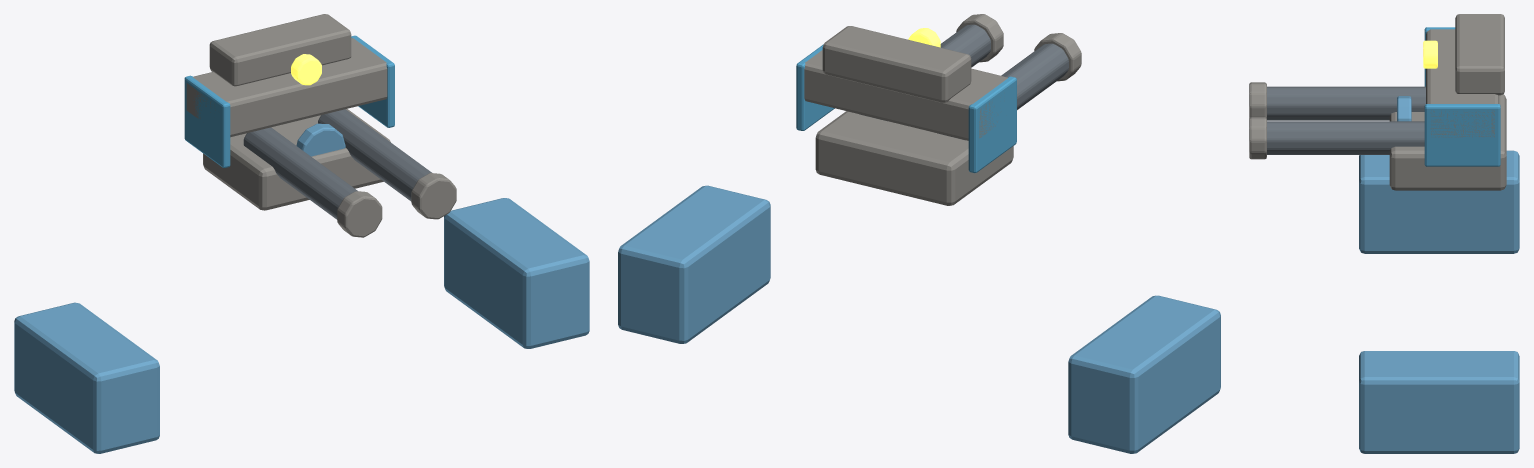
File: hq_hero_rapid.glb
3 views of the same model, side by side, from view 1: azimuth 30°, elevation 25°; view 2: azimuth 150°, elevation 25°; view 3: azimuth 270°, elevation 25° (orthographic). The views are drawn at different scales.
Visible parts, largest first — view 1: GEO_Rapid_Shoulder_L, GEO_Rapid_Shoulder_R, GEO_Rapid_Visor_Lower, GEO_Rapid_Visor_Upper, GEO_Rapid_Mount, GEO_Rapid_Barrel_L, GEO_Rapid_Barrel_R, GEO_Rapid_Fin_L, GEO_Rapid_Muzzle_R, GEO_Rapid_Muzzle_L, GEO_Rapid_BarrelBand, GEO_Rapid_Fin_R (+1 smaller); view 2: GEO_Rapid_Shoulder_L, GEO_Rapid_Shoulder_R, GEO_Rapid_Mount, GEO_Rapid_Visor_Upper, GEO_Rapid_Visor_Lower, GEO_Rapid_Fin_L, GEO_Rapid_Barrel_L, GEO_Rapid_Barrel_R, GEO_Rapid_Fin_R, GEO_Rapid_Muzzle_L, GEO_Rapid_Muzzle_R; view 3: GEO_Rapid_Shoulder_R, GEO_Rapid_Shoulder_L, GEO_Rapid_Barrel_R, GEO_Rapid_Barrel_L, GEO_Rapid_Fin_R, GEO_Rapid_Mount, GEO_Rapid_Visor_Upper, GEO_Rapid_Visor_Lower, GEO_Rapid_Muzzle_R, GEO_Rapid_Muzzle_L, GEO_Rapid_CoreDot, GEO_Rapid_BarrelBand.
Part boxes in pixels (box(x1,y1,x2,y2)): GEO_Rapid_Shoulder_L: box(14, 302, 159, 453); GEO_Rapid_Shoulder_R: box(444, 198, 589, 348); GEO_Rapid_Visor_Lower: box(186, 38, 387, 137); GEO_Rapid_Visor_Upper: box(209, 14, 351, 86); GEO_Rapid_Mount: box(203, 109, 390, 210); GEO_Rapid_Barrel_L: box(243, 127, 357, 219); GEO_Rapid_Barrel_R: box(318, 109, 431, 201); GEO_Rapid_Fin_L: box(184, 75, 230, 167); GEO_Rapid_Muzzle_R: box(411, 173, 456, 219); GEO_Rapid_Muzzle_L: box(337, 191, 382, 237); GEO_Rapid_BarrelBand: box(296, 123, 345, 156); GEO_Rapid_Fin_R: box(351, 35, 394, 127); GEO_Rapid_Shoulder_L: box(1068, 295, 1220, 453); GEO_Rapid_Shoulder_R: box(618, 185, 770, 343); GEO_Rapid_Mount: box(815, 111, 1013, 205); GEO_Rapid_Visor_Upper: box(822, 26, 971, 102); GEO_Rapid_Visor_Lower: box(804, 50, 1007, 140); GEO_Rapid_Fin_L: box(968, 76, 1016, 173); GEO_Rapid_Barrel_L: box(937, 43, 1068, 140); GEO_Rapid_Barrel_R: box(861, 24, 990, 121); GEO_Rapid_Fin_R: box(796, 44, 834, 130); GEO_Rapid_Muzzle_L: box(1034, 33, 1081, 81); GEO_Rapid_Muzzle_R: box(956, 14, 1003, 62); GEO_Rapid_Shoulder_R: box(1359, 351, 1519, 453); GEO_Rapid_Shoulder_L: box(1359, 150, 1519, 253); GEO_Rapid_Barrel_R: box(1267, 121, 1424, 154); GEO_Rapid_Barrel_L: box(1267, 86, 1425, 120); GEO_Rapid_Fin_R: box(1424, 104, 1500, 166); GEO_Rapid_Mount: box(1389, 94, 1506, 190); GEO_Rapid_Visor_Upper: box(1455, 14, 1504, 95); GEO_Rapid_Visor_Lower: box(1426, 29, 1499, 137); GEO_Rapid_Muzzle_R: box(1249, 117, 1266, 159); GEO_Rapid_Muzzle_L: box(1249, 82, 1266, 118); GEO_Rapid_CoreDot: box(1423, 40, 1437, 68); GEO_Rapid_BarrelBand: box(1397, 96, 1411, 121).
Bounding box in the file's own units: 3.74 × 2.27 × 1.85.
